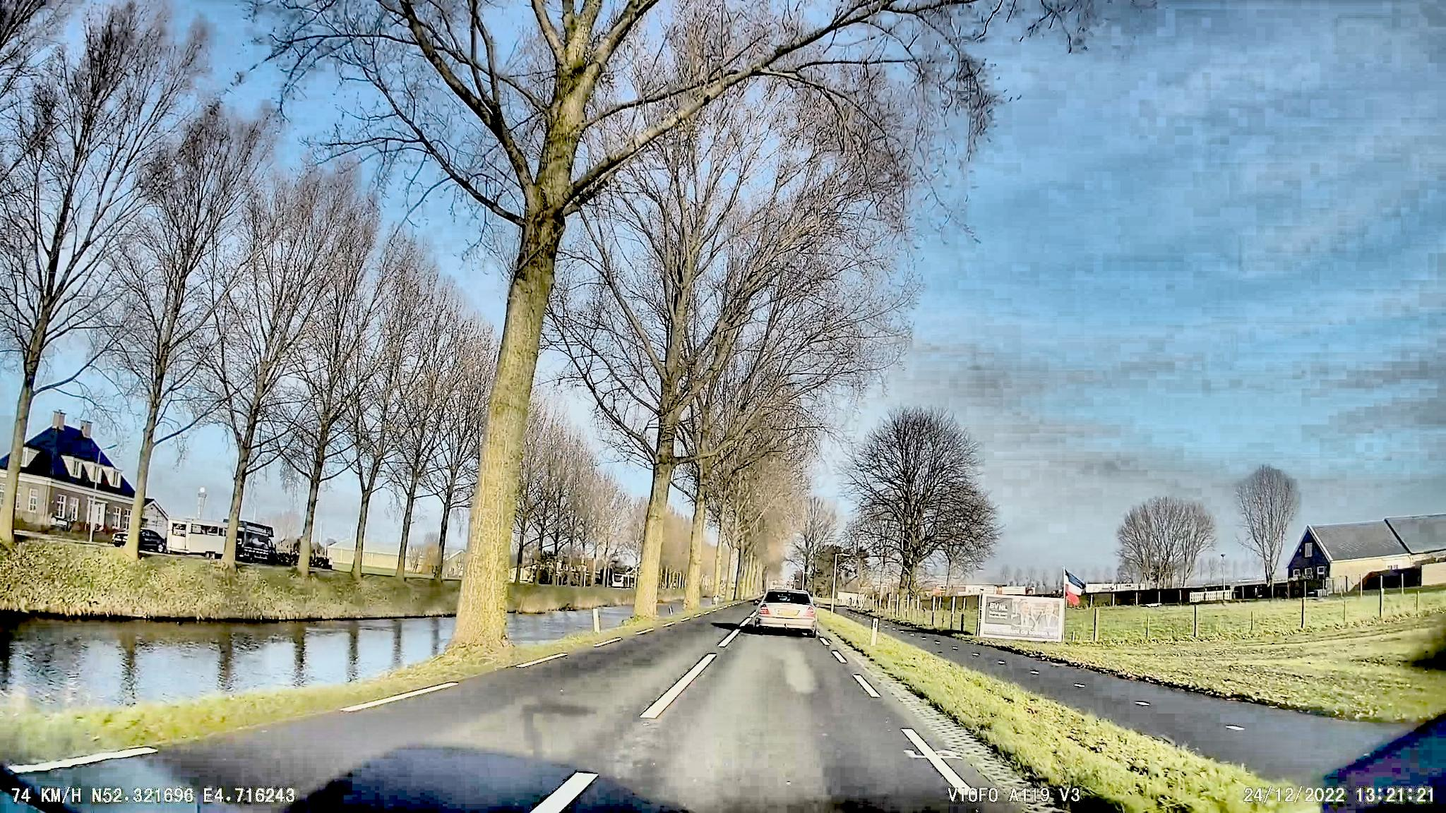Roads: (0, 604, 1084, 813)
